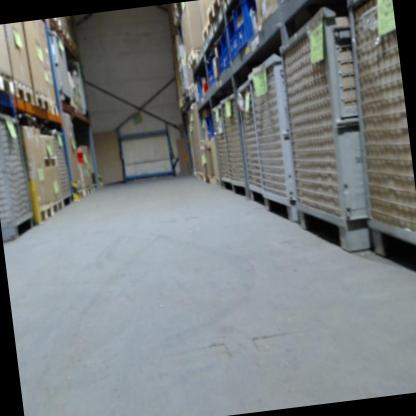pallet: (13, 80, 34, 107), (0, 59, 15, 95), (205, 0, 224, 27), (38, 202, 55, 222), (34, 91, 50, 111), (186, 48, 200, 69), (201, 21, 213, 41), (52, 200, 64, 214), (188, 83, 195, 94)
small_load_carrier: (231, 0, 258, 52), (225, 12, 242, 64), (219, 28, 234, 72), (204, 52, 219, 83), (214, 42, 228, 74), (204, 113, 216, 139), (194, 75, 204, 98)
stillage: (271, 4, 382, 264), (332, 0, 416, 274), (246, 44, 302, 229), (233, 72, 269, 218), (0, 105, 37, 243), (219, 90, 250, 205), (47, 28, 77, 108), (209, 101, 233, 193), (48, 129, 74, 207)
